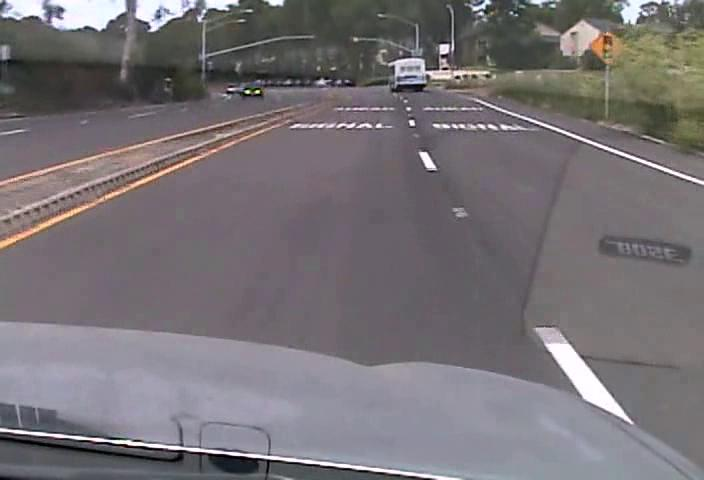signalAhead: (589, 30, 627, 65)
